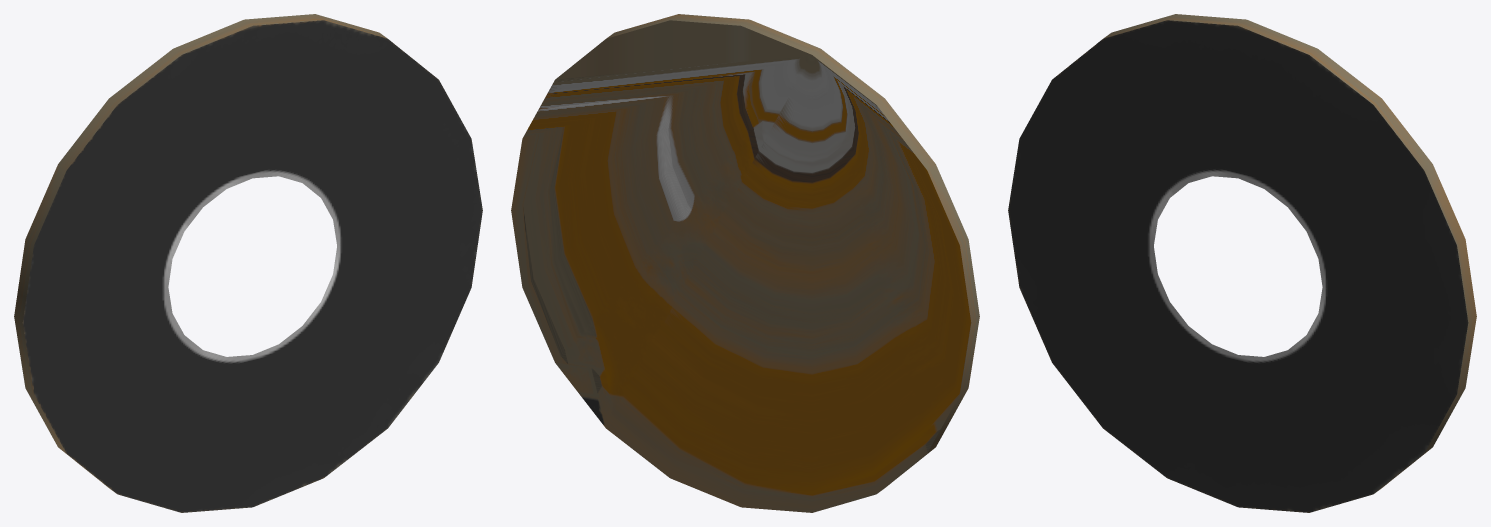
Rendered from IpodCirculitoEXPORT.glb.
3 renders of one model, left to right at view 1: azimuth 30°, elevation 25°; view 2: azimuth 150°, elevation 25°; view 3: azimuth 330°, elevation 25°, orthographic.
Visible parts, largest first — view 1: Circle; view 2: Circle; view 3: Circle.
Part boxes in pixels (x1,y1,x2,y2): Circle: (14,14,482,512); Circle: (511,14,979,512); Circle: (1008,14,1476,512).
Bounding box in the file's own units: 2.4 × 2.4 × 0.0778.
1 material, 1 textured.
